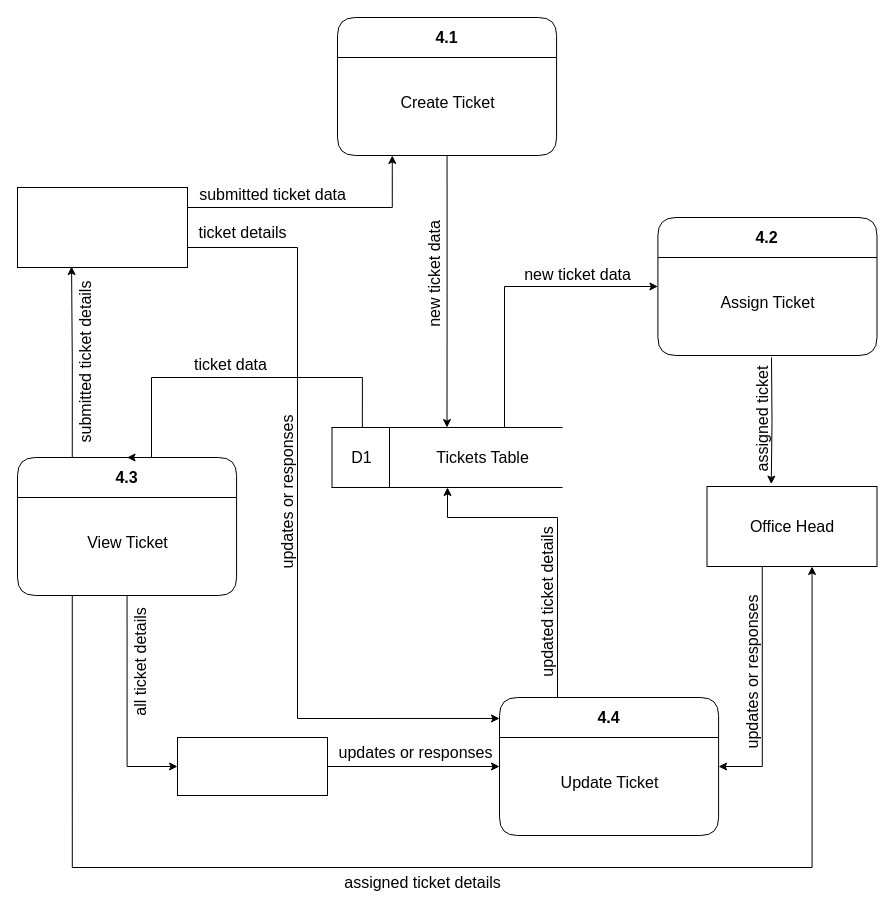
The diagram is 895 pixels wide and 915 high, and some of its shapes have lost their labels. The shapes that lost their labels are listed below. From the top down, each one's centre as x and y in pixels, then its label:
At pixel 102 227: "Student".
At pixel 252 766: "Admin".
